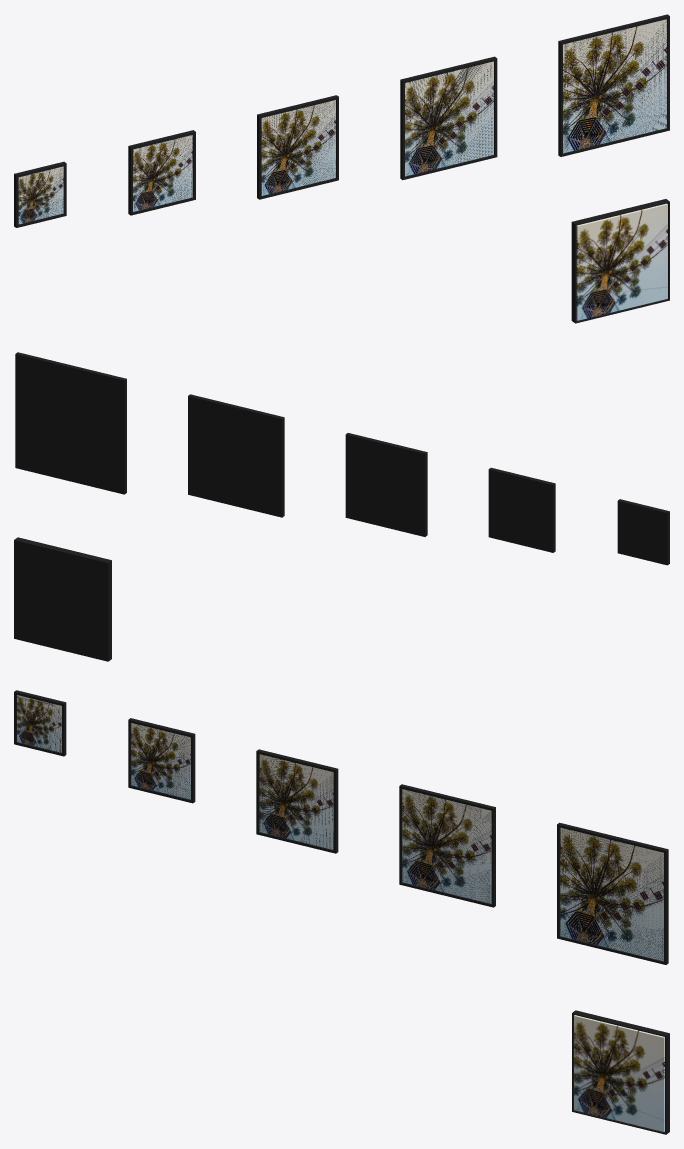
File: bildpalme.dae
3 views of the same model, one above another, from view 1: azimuth 30°, elevation 25°; view 2: azimuth 150°, elevation 25°; view 3: azimuth 330°, elevation 25° (orthographic).
Parts seen in each view (by area): view 1: group_6 (×2), group_3 (×2), group_4, group_2 (×2), group_1 (×2), group_0 (×2), group_5; view 2: group_6, group_5, group_3, group_2, group_1, group_0; view 3: group_6 (×2), group_3 (×2), group_4, group_2 (×2), group_1 (×2), group_0 (×2), group_5.
Part boxes in pixels (x1,y1,x2,y2): group_6 (×2): (558, 14, 669, 156); group_3 (×2): (400, 56, 497, 180); group_4: (576, 203, 667, 320); group_2 (×2): (257, 95, 338, 199); group_1 (×2): (128, 130, 195, 215); group_0 (×2): (14, 161, 66, 227); group_5: (571, 199, 669, 323); group_6: (15, 352, 126, 494); group_5: (14, 537, 111, 661); group_3: (188, 394, 284, 517); group_2: (345, 433, 427, 536); group_1: (488, 467, 555, 552); group_0: (617, 499, 669, 565); group_6 (×2): (557, 822, 668, 964); group_3 (×2): (399, 784, 495, 907); group_4: (574, 1015, 664, 1131); group_2 (×2): (256, 749, 338, 853); group_1 (×2): (128, 718, 195, 803); group_0 (×2): (14, 690, 66, 756); group_5: (572, 1010, 669, 1134).
Size of the model in its own units: 174 by 1.77 by 72.44.
2 materials, 1 textured.
